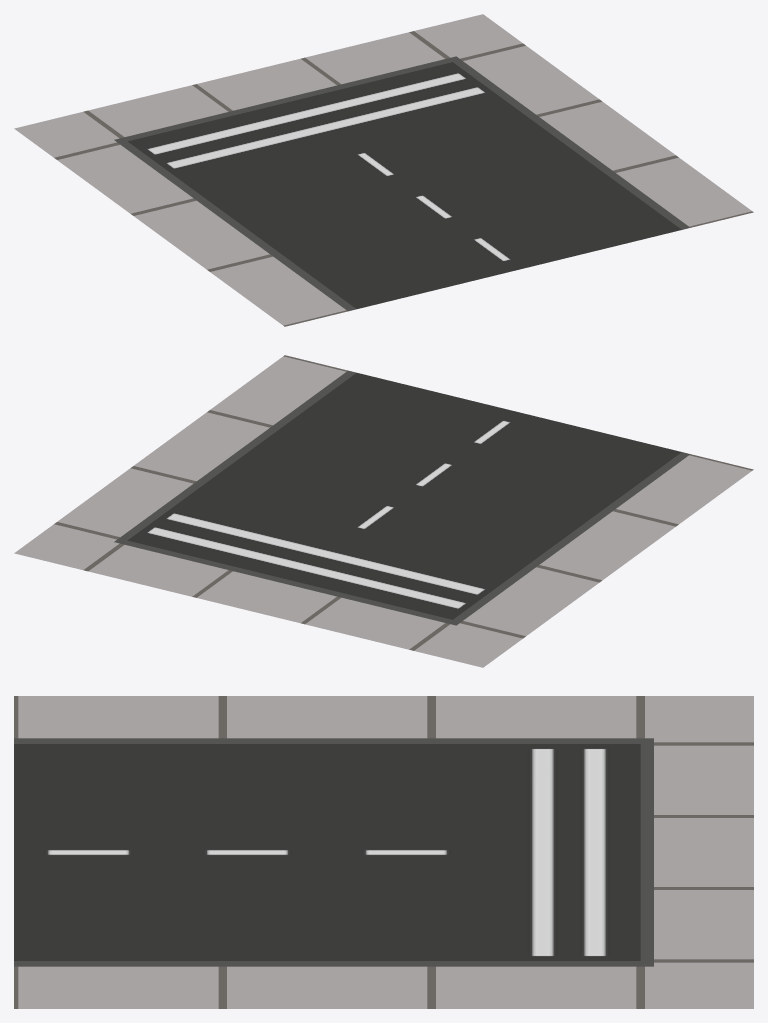
The model's file is road tile end.FBX.
The picture shows the model from 3 angles, top to bottom: view 1: azimuth 30°, elevation 25°; view 2: azimuth 150°, elevation 25°; view 3: azimuth 270°, elevation 25°; orthographic projection. The views are drawn at different scales.
Visible parts, largest first — view 1: road tile end; view 2: road tile end; view 3: road tile end.
Boxes of the visible parts, bbox=[...] form: road tile end: bbox=[14, 14, 753, 326]; road tile end: bbox=[14, 355, 753, 667]; road tile end: bbox=[14, 696, 753, 1008].
Size of the model in its own units: 20 by 8.74e-07 by 20.
